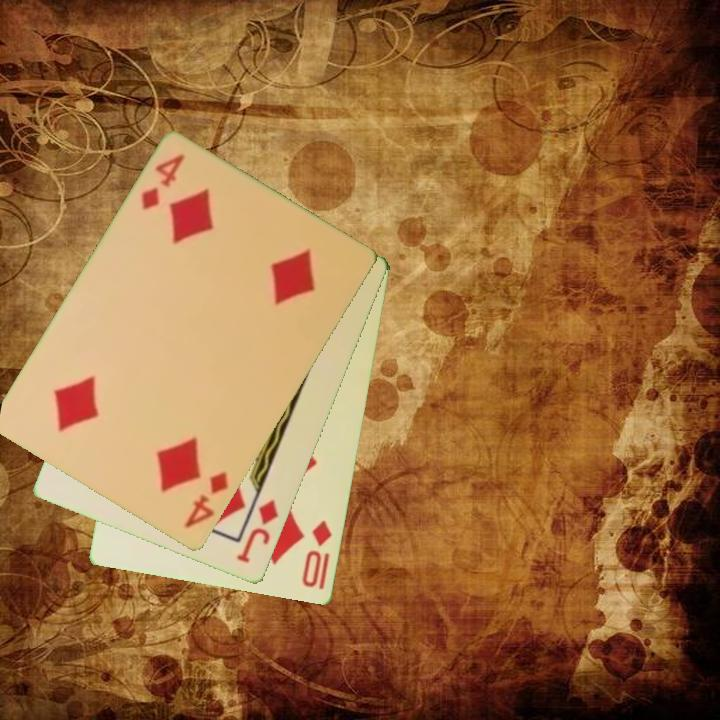10d: (299, 517, 336, 593)
4d: (137, 150, 188, 214), (181, 468, 231, 532)
Jd: (234, 496, 282, 567)
